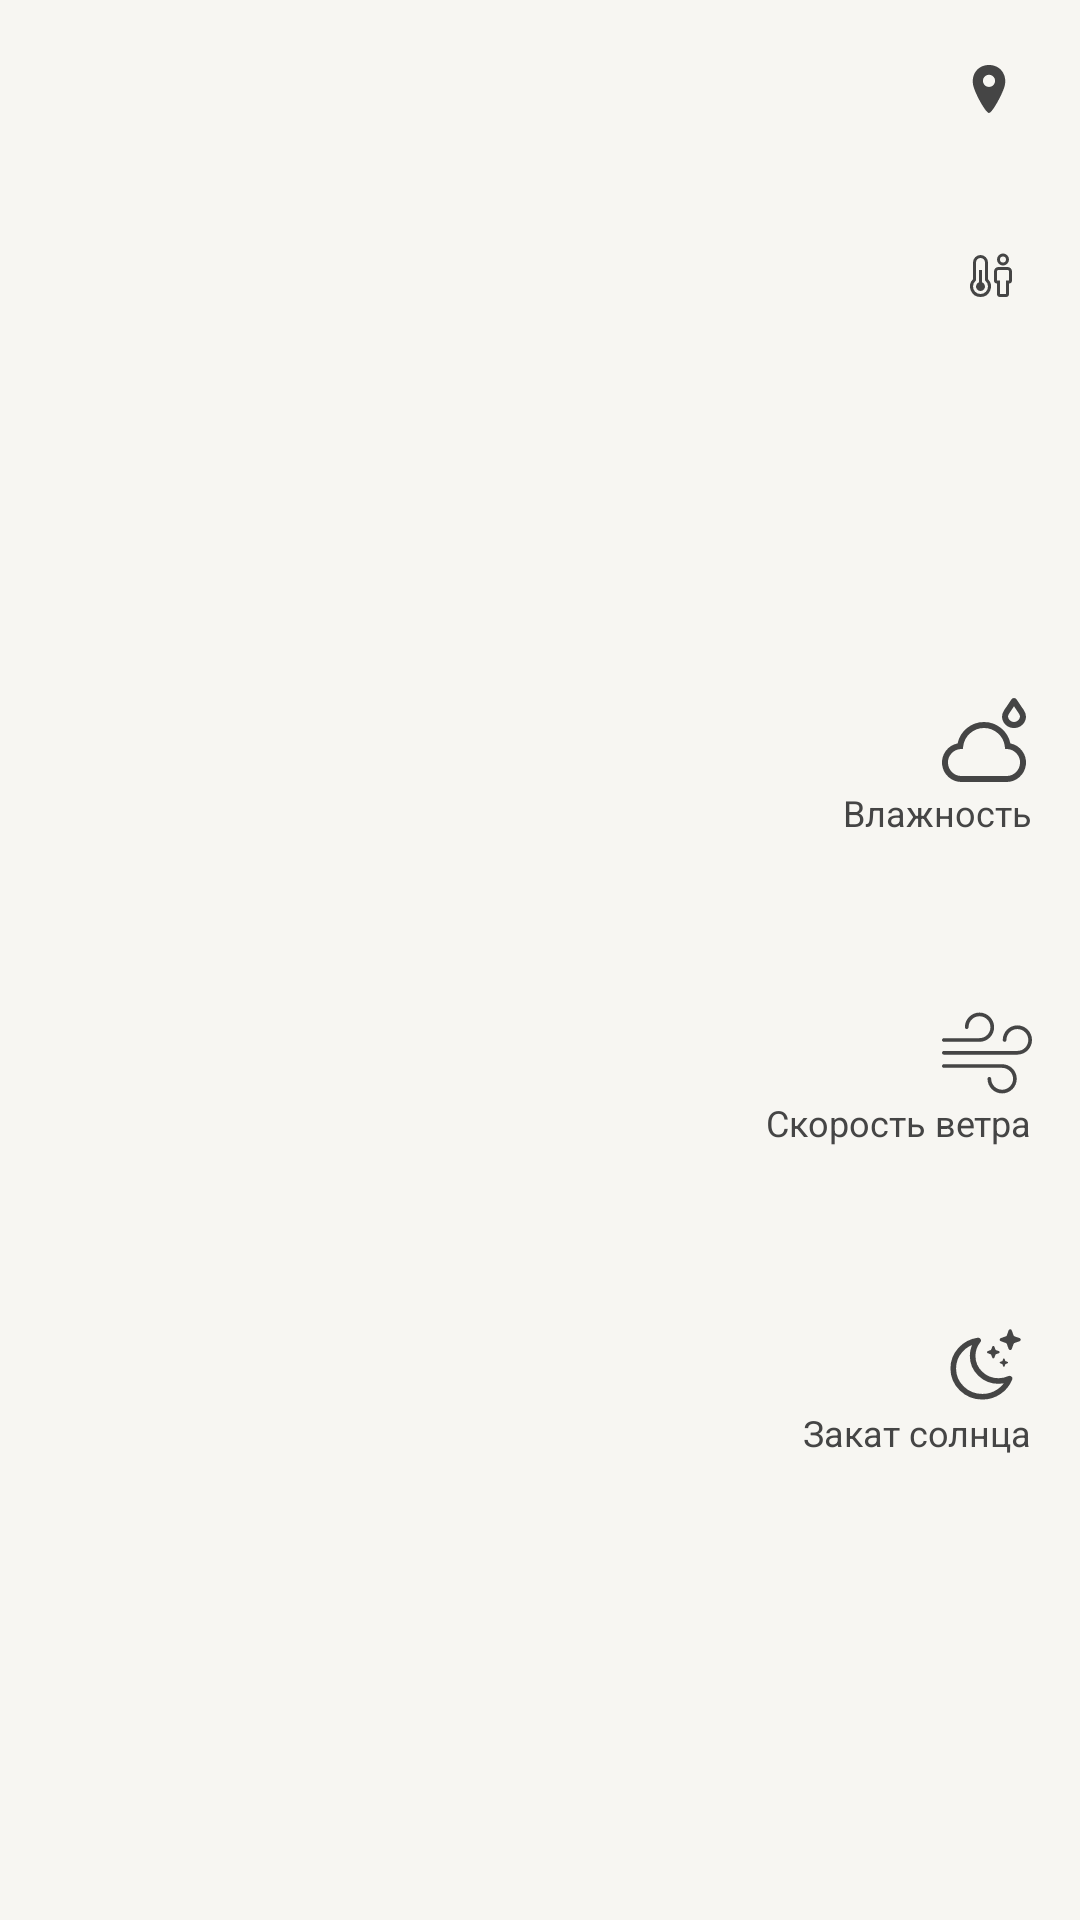

Icon bounding boxes for this 1080 × 1920 phone screenshot, format (x1, y1, x2, y2):
feels like: (970, 253, 1012, 297)
pin: (972, 65, 1006, 113)
